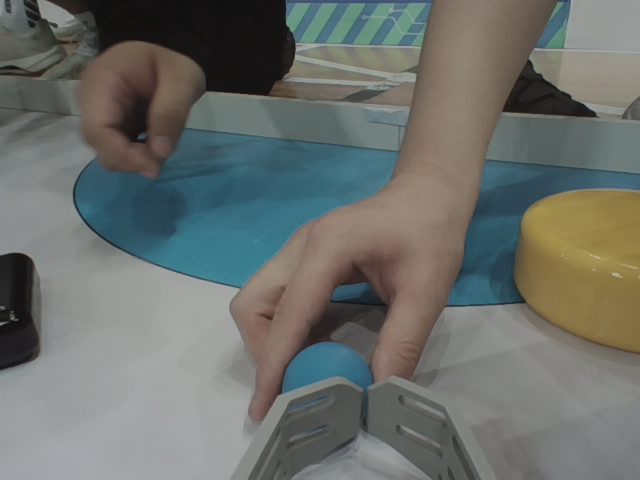black: (1, 246, 43, 369)
blue: (276, 343, 385, 425)
yellow: (518, 176, 640, 379)
